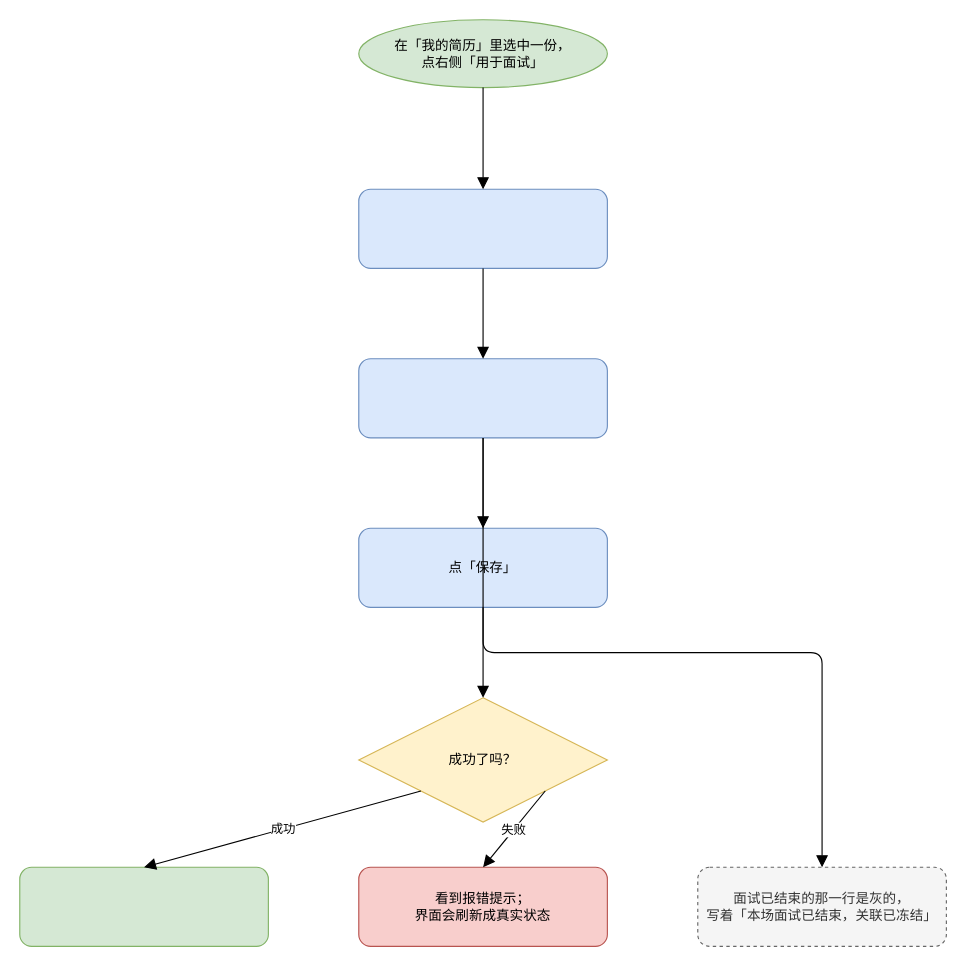
The diagram is 966 pixels wide and 966 high, and some of its shapes have lost their labels. The centre of each missing label's shape, as x and y in pixels:
"勾上想用这份简历的场次； 取消勾选就是解除关联" belongs at pixel 482 398.
"弹出「这份简历用在哪些面试？」， 列着每一场当前的情况" belongs at pixel 482 228.
"看到「已更新关联」" belongs at pixel 143 906.
